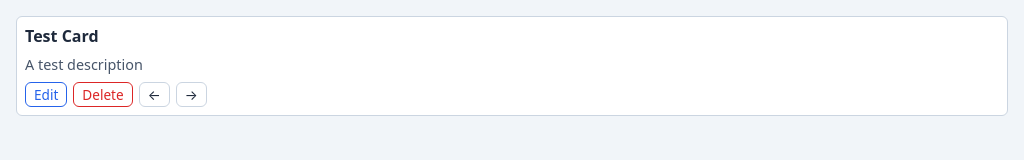
Test: Card › pressing Escape cancels edit
The image size is (1024, 160).
Click the button with test id "edit-button" at [46, 94], box x1=25 y1=82 x2=67 y2=107
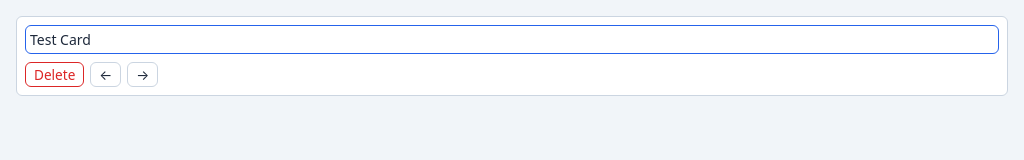
Replace the text in the field with test id "edit-input" with "Something else" at [512, 40], box x1=25 y1=25 x2=999 y2=54
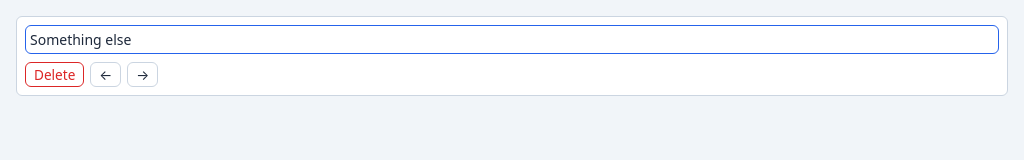
Press Escape in the field with test id "edit-input", box x1=25 y1=25 x2=999 y2=54
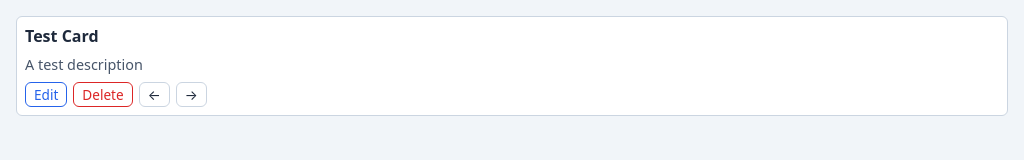
Expected: the text with test id "card-title" reads "Test Card", x1=25 y1=25 x2=99 y2=47
